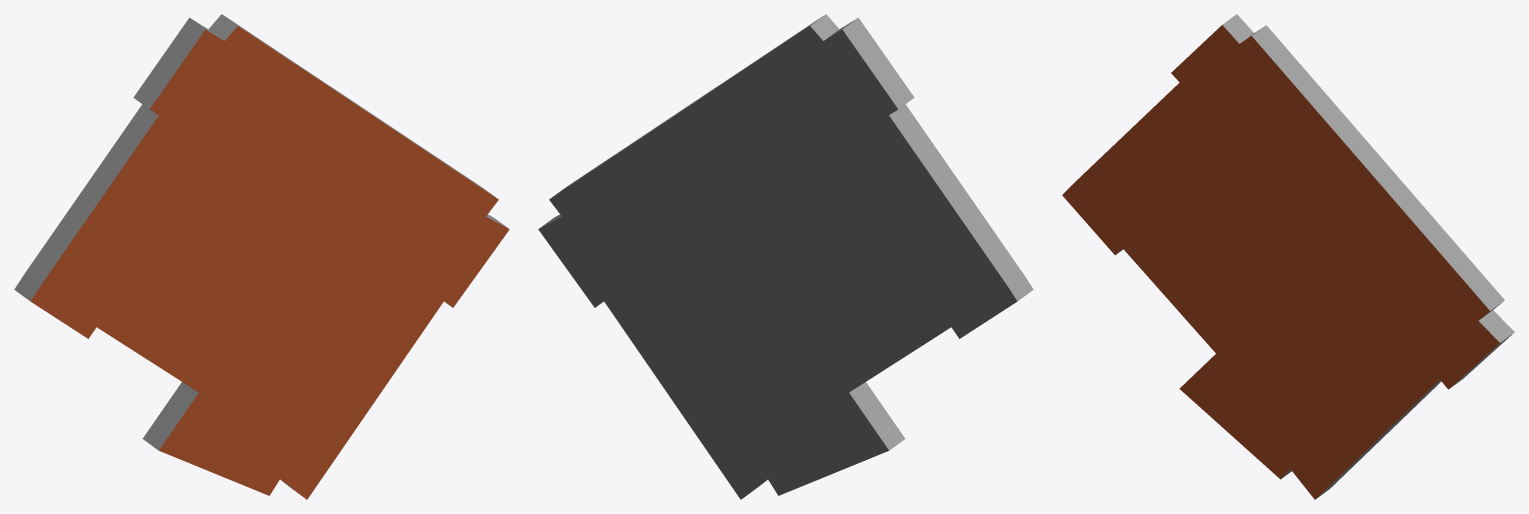
File: construction_0134_assumed_A_Grande_construcao_h6m.obj
3 renders of one model, left to right at view 1: azimuth 30°, elevation 25°; view 2: azimuth 150°, elevation 25°; view 3: azimuth 330°, elevation 25°, orthographic. The views are drawn at different scales.
Visible parts, largest first — view 1: construction_0134_assumed_A_Grande_construcao; view 2: construction_0134_assumed_A_Grande_construcao; view 3: construction_0134_assumed_A_Grande_construcao.
Boxes of the visible parts, x1,y1,x2,y2 form: construction_0134_assumed_A_Grande_construcao: (14, 14, 509, 499); construction_0134_assumed_A_Grande_construcao: (538, 14, 1033, 499); construction_0134_assumed_A_Grande_construcao: (1062, 14, 1514, 499).
Size of the model in its own units: 103 by 101 by 6.
